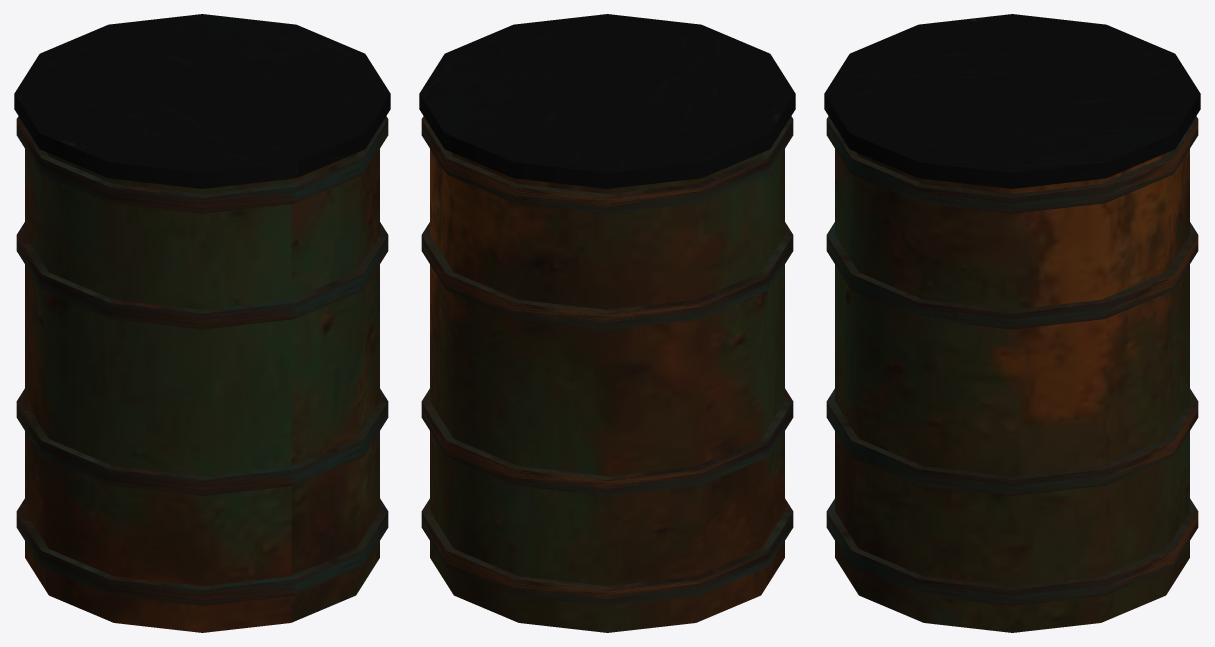
File: loose_bin.glb
The picture shows the model from 3 angles, left to right: view 1: azimuth 30°, elevation 25°; view 2: azimuth 150°, elevation 25°; view 3: azimuth 270°, elevation 25°; orthographic projection.
Parts seen in each view (by area): view 1: RustedMetalShell, LooseLid, RolledMetalRib, _MeshInstance3D_39841, _MeshInstance3D_39842, _MeshInstance3D_39843; view 2: RustedMetalShell, LooseLid, RolledMetalRib, _MeshInstance3D_39841, _MeshInstance3D_39842, _MeshInstance3D_39843; view 3: RustedMetalShell, LooseLid, RolledMetalRib, _MeshInstance3D_39841, _MeshInstance3D_39842, _MeshInstance3D_39843.
Boxes of the visible parts, <box> form: RustedMetalShell: <box>25,149,379,632</box>; LooseLid: <box>14,14,390,188</box>; RolledMetalRib: <box>16,498,388,605</box>; _MeshInstance3D_39841: <box>16,388,388,495</box>; _MeshInstance3D_39842: <box>16,222,388,329</box>; _MeshInstance3D_39843: <box>16,116,388,213</box>; RustedMetalShell: <box>430,149,784,632</box>; LooseLid: <box>419,14,795,188</box>; RolledMetalRib: <box>421,498,793,605</box>; _MeshInstance3D_39841: <box>421,388,793,495</box>; _MeshInstance3D_39842: <box>421,222,793,329</box>; _MeshInstance3D_39843: <box>421,116,793,213</box>; RustedMetalShell: <box>835,149,1189,632</box>; LooseLid: <box>824,14,1200,188</box>; RolledMetalRib: <box>826,498,1198,605</box>; _MeshInstance3D_39841: <box>826,388,1198,495</box>; _MeshInstance3D_39842: <box>826,222,1198,329</box>; _MeshInstance3D_39843: <box>826,116,1198,213</box>.
Bounding box in the file's own units: 0.53 × 0.7225 × 0.53.
Materials: 3 (3 with a texture image).
